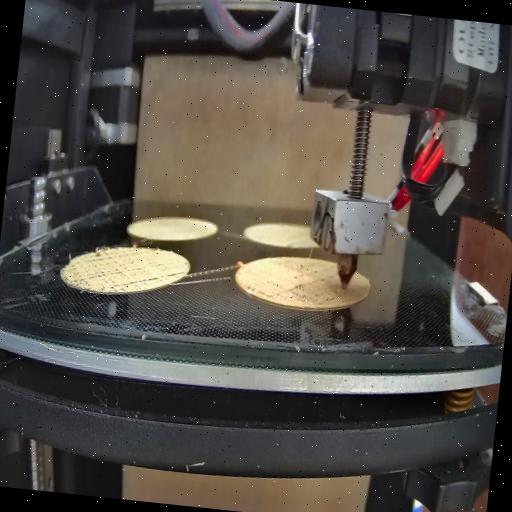under_extrusion: (66, 244, 162, 294), (244, 270, 344, 309), (162, 264, 185, 283), (294, 263, 322, 276)
